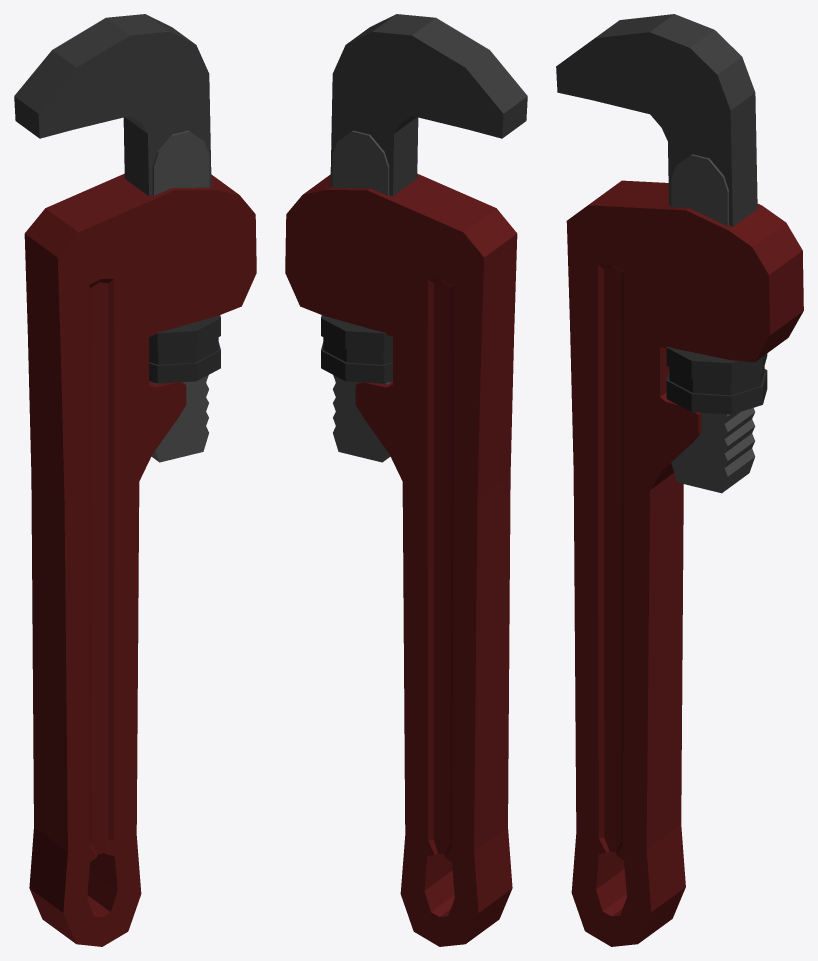
The model's file is Pipe Wrench.fbx.
3 views of the same model, side by side, from view 1: azimuth 30°, elevation 25°; view 2: azimuth 150°, elevation 25°; view 3: azimuth 330°, elevation 25° (orthographic). The views are drawn at different scales.
Visible parts, largest first — view 1: Pipe Wrench; view 2: Pipe Wrench; view 3: Pipe Wrench.
Boxes of the visible parts, x1,y1,x2,y2 form: Pipe Wrench: (14, 14, 256, 946); Pipe Wrench: (285, 14, 527, 946); Pipe Wrench: (556, 14, 803, 946).
Size of the model in its own units: 192 by 774 by 77.47.
Materials: 1 (1 with a texture image).
